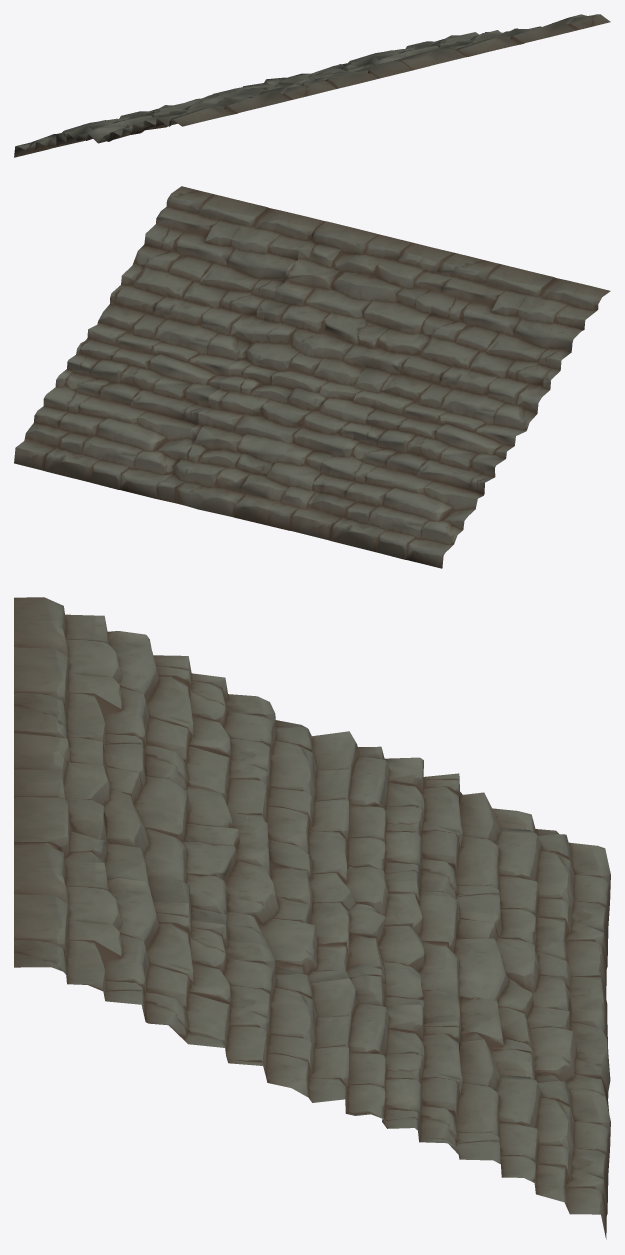
The model's file is SM_FW01_Ruins_Int_Stairs_4x2x6_01.fbx.
The picture shows the model from 3 angles, top to bottom: view 1: azimuth 30°, elevation 25°; view 2: azimuth 150°, elevation 25°; view 3: azimuth 270°, elevation 25°; orthographic projection. The views are drawn at different scales.
Visible parts, largest first — view 1: SM_FW01_Ruins_Int_Stairs_4x2x6_01_LOD0; view 2: SM_FW01_Ruins_Int_Stairs_4x2x6_01_LOD0; view 3: SM_FW01_Ruins_Int_Stairs_4x2x6_01_LOD0.
Part boxes in pixels (x1=…): SM_FW01_Ruins_Int_Stairs_4x2x6_01_LOD0: x1=14, y1=14, x2=610, y2=157; SM_FW01_Ruins_Int_Stairs_4x2x6_01_LOD0: x1=14, y1=186, x2=610, y2=568; SM_FW01_Ruins_Int_Stairs_4x2x6_01_LOD0: x1=14, y1=597, x2=610, y2=1239.
Size of what is drawn, in the model's own units: 5.99 by 2.09 by 4.09.
